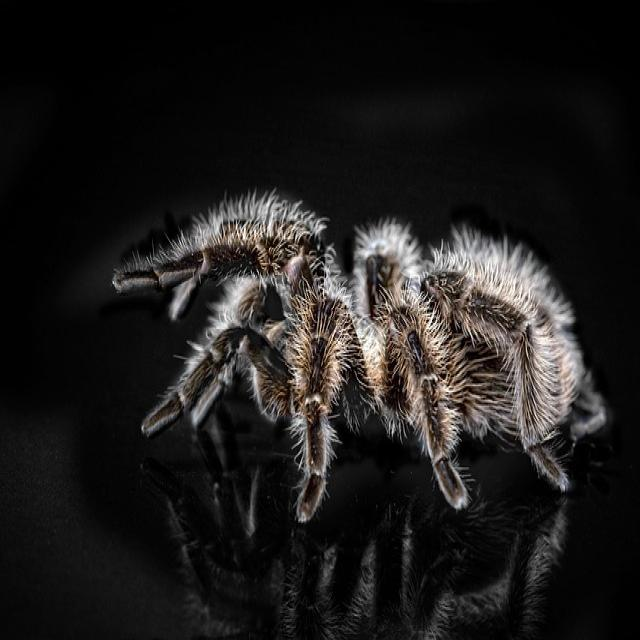spyder: (114, 192, 605, 522)
